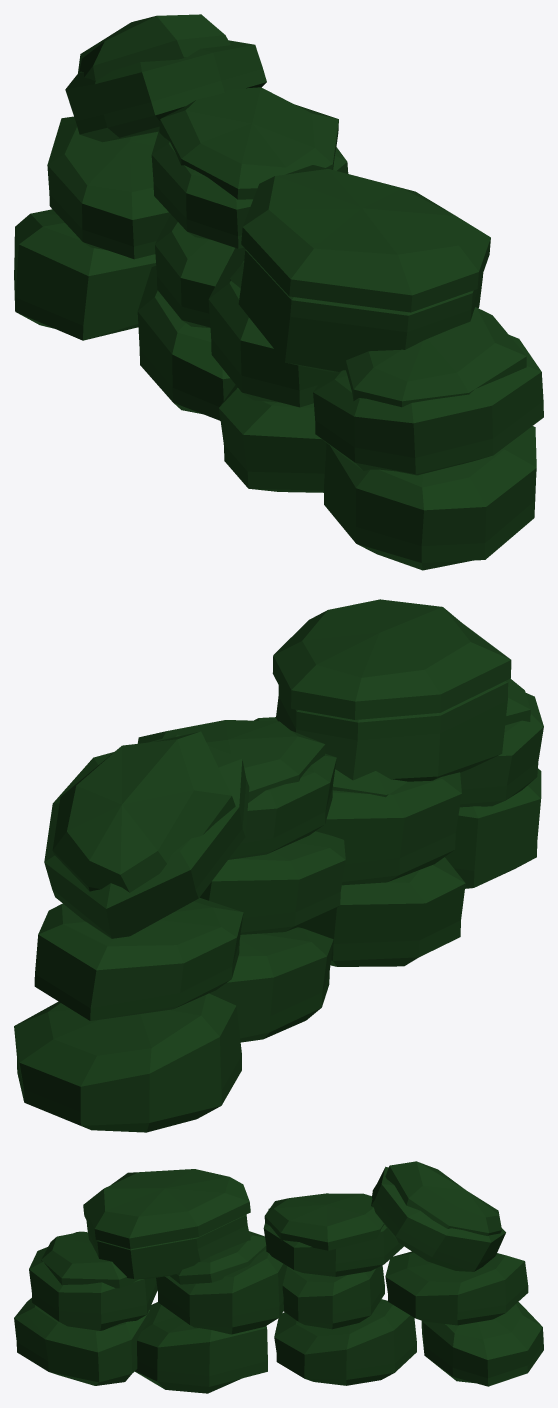
Rendered from P_RockFence_01.FBX.
3 views of the same model, one above another, from view 1: azimuth 30°, elevation 25°; view 2: azimuth 150°, elevation 25°; view 3: azimuth 270°, elevation 25° (orthographic). The views are drawn at different scales.
Parts seen in each view (by area): view 1: rocher002; view 2: rocher002; view 3: rocher002.
Part boxes in pixels (x1,y1,x2,y2): rocher002: (14, 14, 543, 570); rocher002: (14, 599, 543, 1132); rocher002: (14, 1161, 543, 1393).
Bounding box in the file's own units: 82.14 × 112 × 264.
